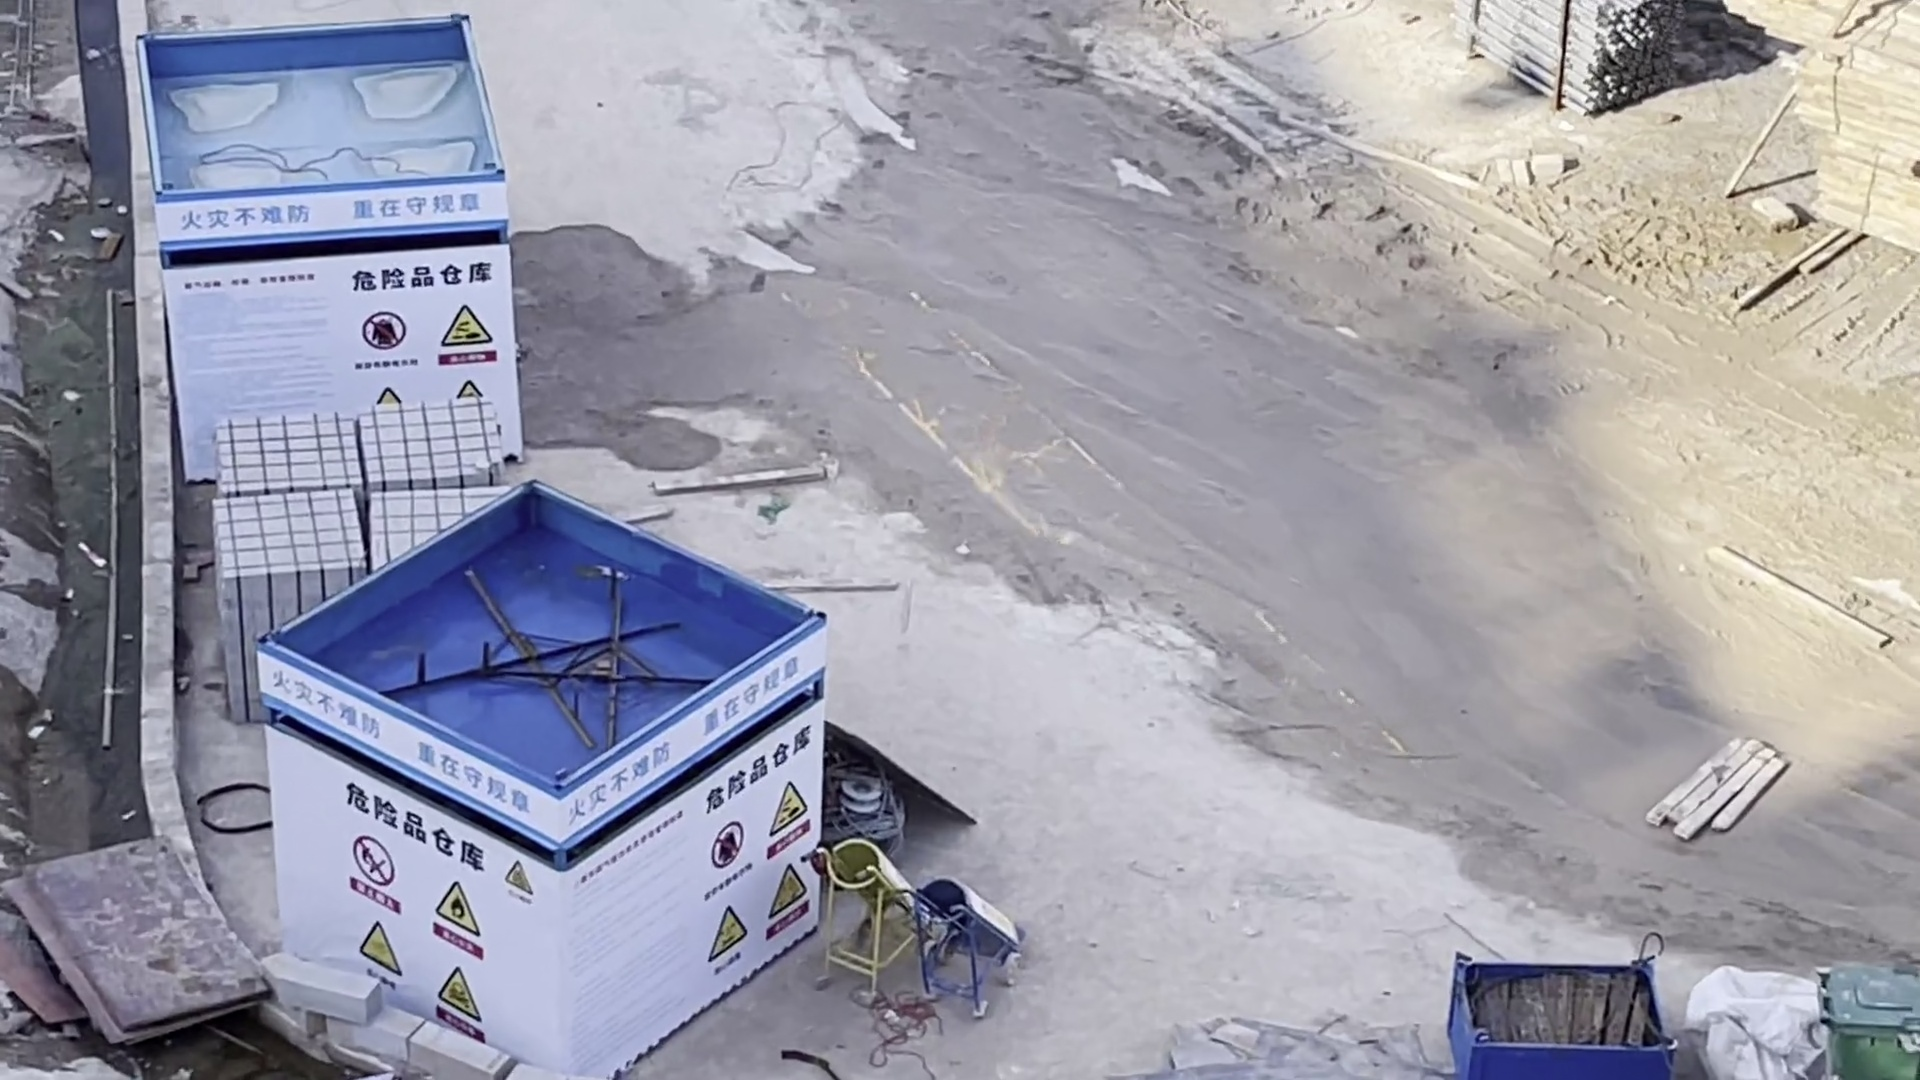board: (30, 840, 258, 1048)
brick: (215, 407, 493, 690)
scaffold: (1476, 1, 1681, 94)
slogan: (260, 655, 534, 820), (568, 644, 827, 802), (175, 185, 505, 228)
